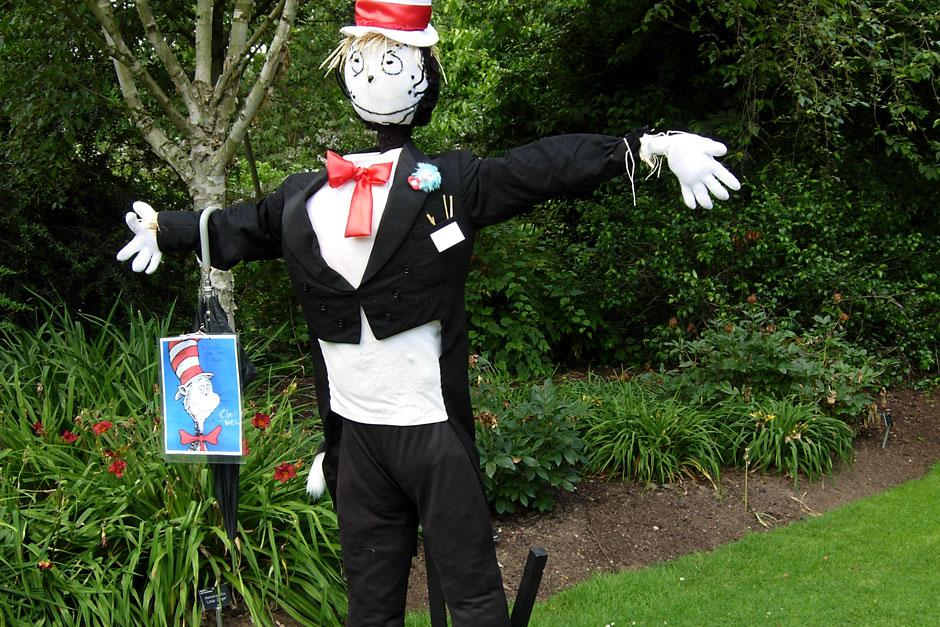person-like: (113, 1, 745, 627)
